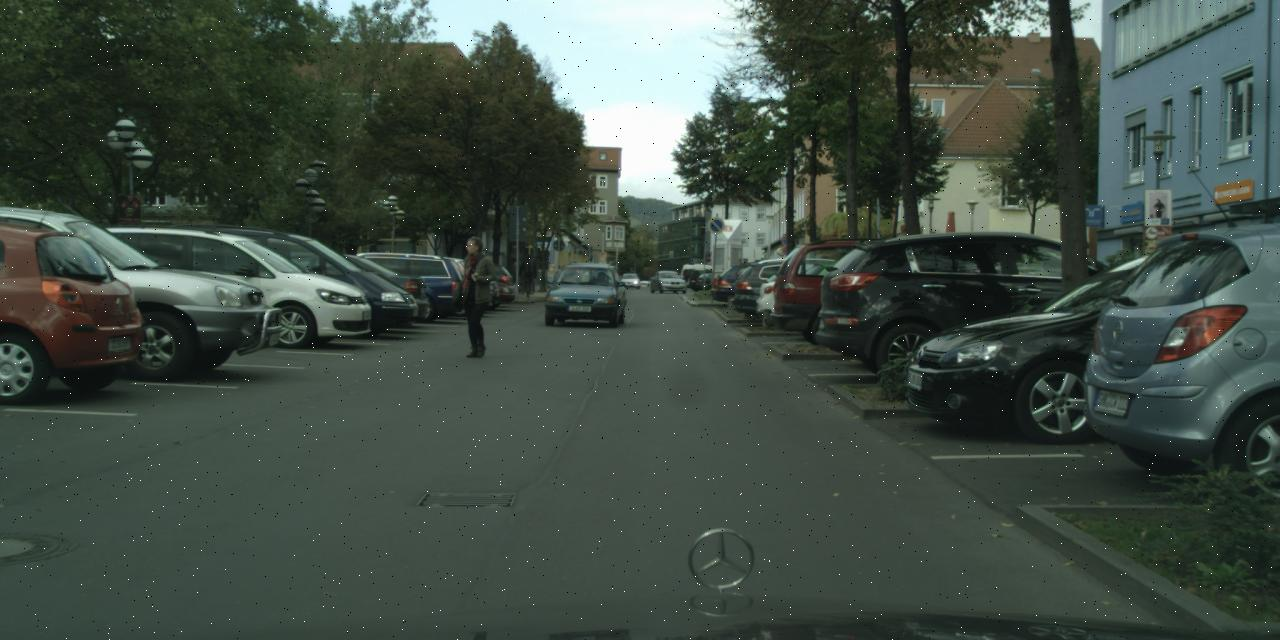ped: (449, 236, 499, 356), (520, 254, 537, 296)
